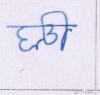i_matra: (47, 9, 72, 50)
